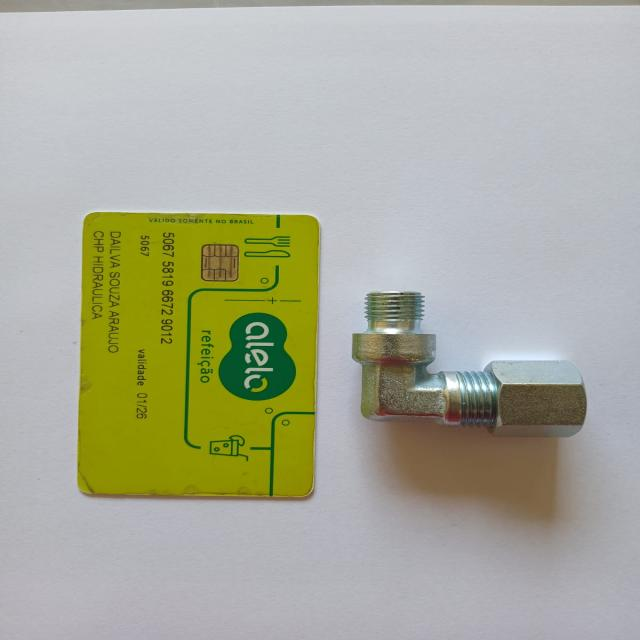cartao: (80, 213, 318, 498)
rosca_externa: (351, 291, 588, 435)
